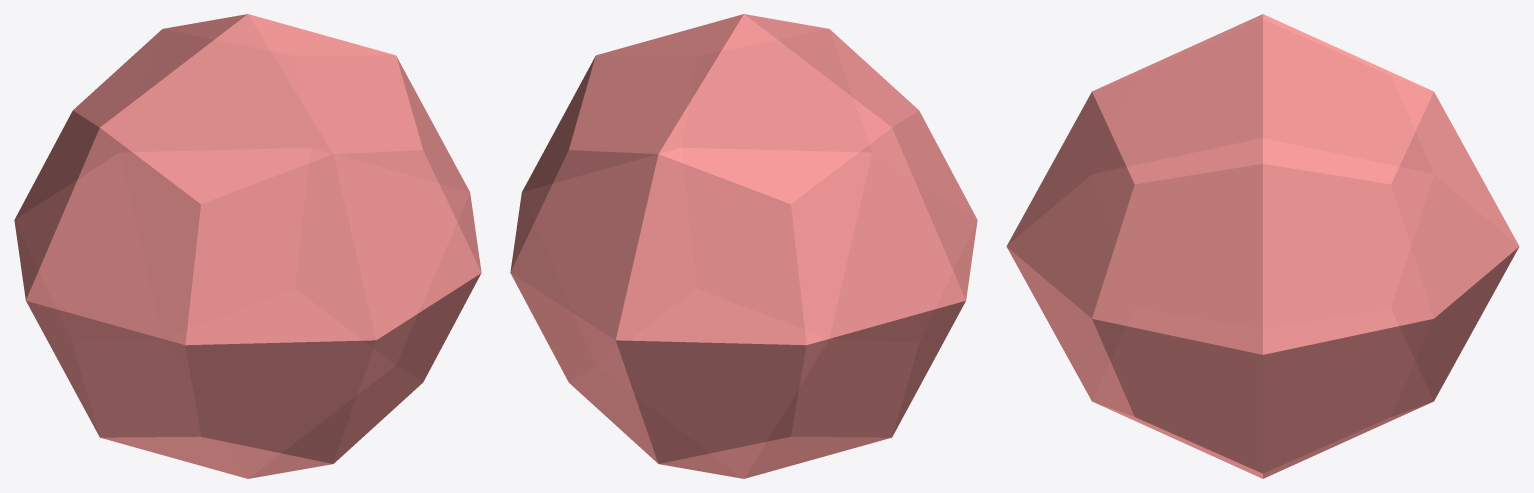
The model's file is JoinedCuboctahedron.obj.
3 renders of one model, left to right at view 1: azimuth 30°, elevation 25°; view 2: azimuth 150°, elevation 25°; view 3: azimuth 270°, elevation 25°, orthographic.
Size of the model in its own units: 2.12 by 2.12 by 2.12.
